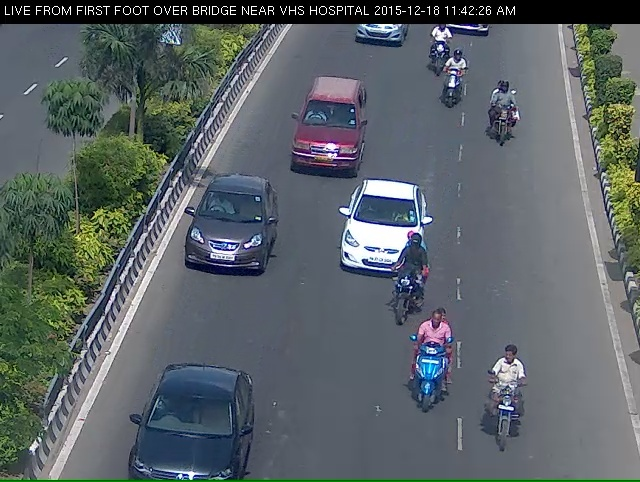Car: (117, 386, 253, 481), (176, 195, 279, 299), (335, 195, 435, 296), (281, 84, 371, 195)
Person: (479, 379, 539, 479), (401, 338, 453, 440), (376, 267, 410, 357), (490, 90, 525, 164), (422, 25, 458, 83), (437, 67, 463, 124)
